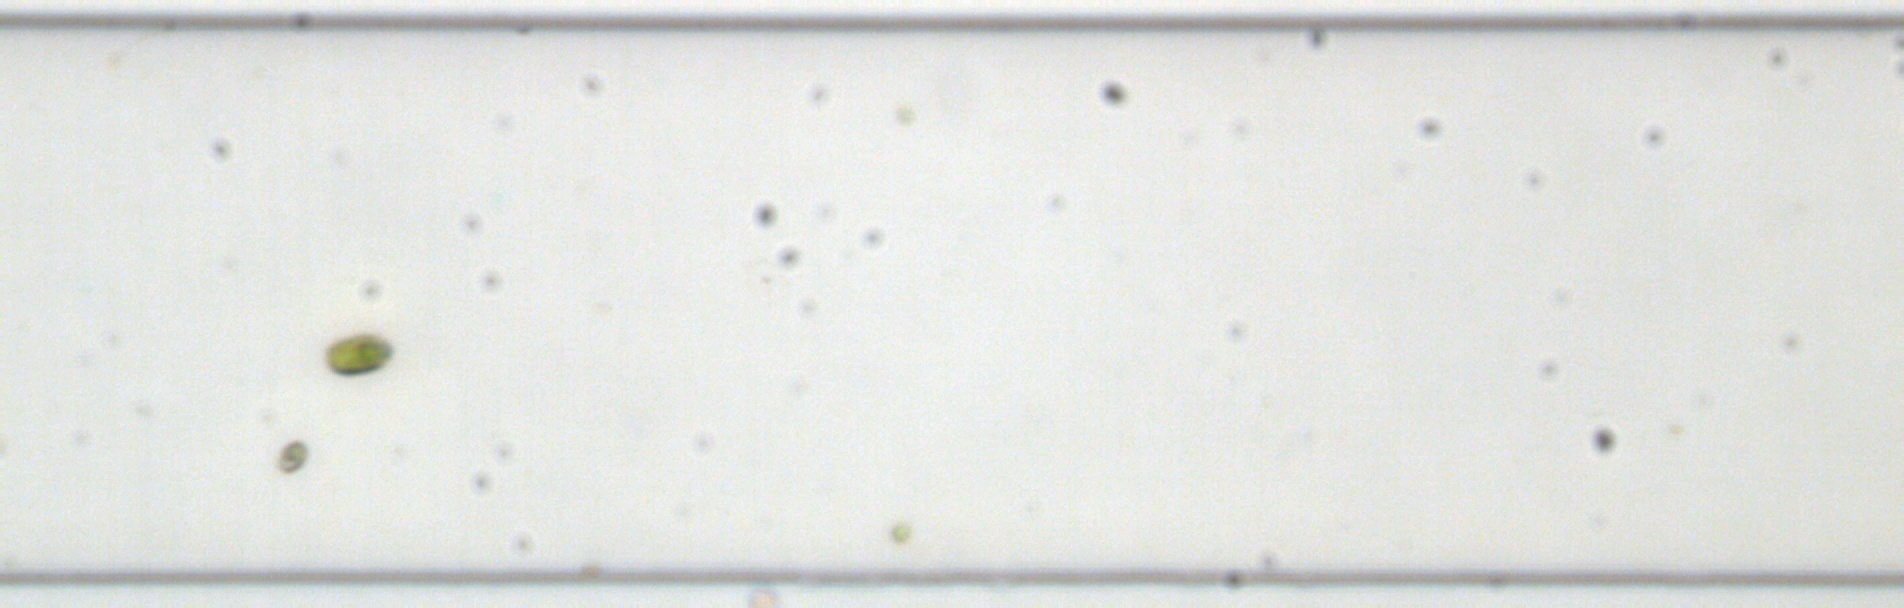Chlorella: (888, 521, 913, 542), (895, 106, 916, 124)
Dunaliella salina: (274, 436, 308, 475)
Platymonas: (323, 329, 393, 377)
